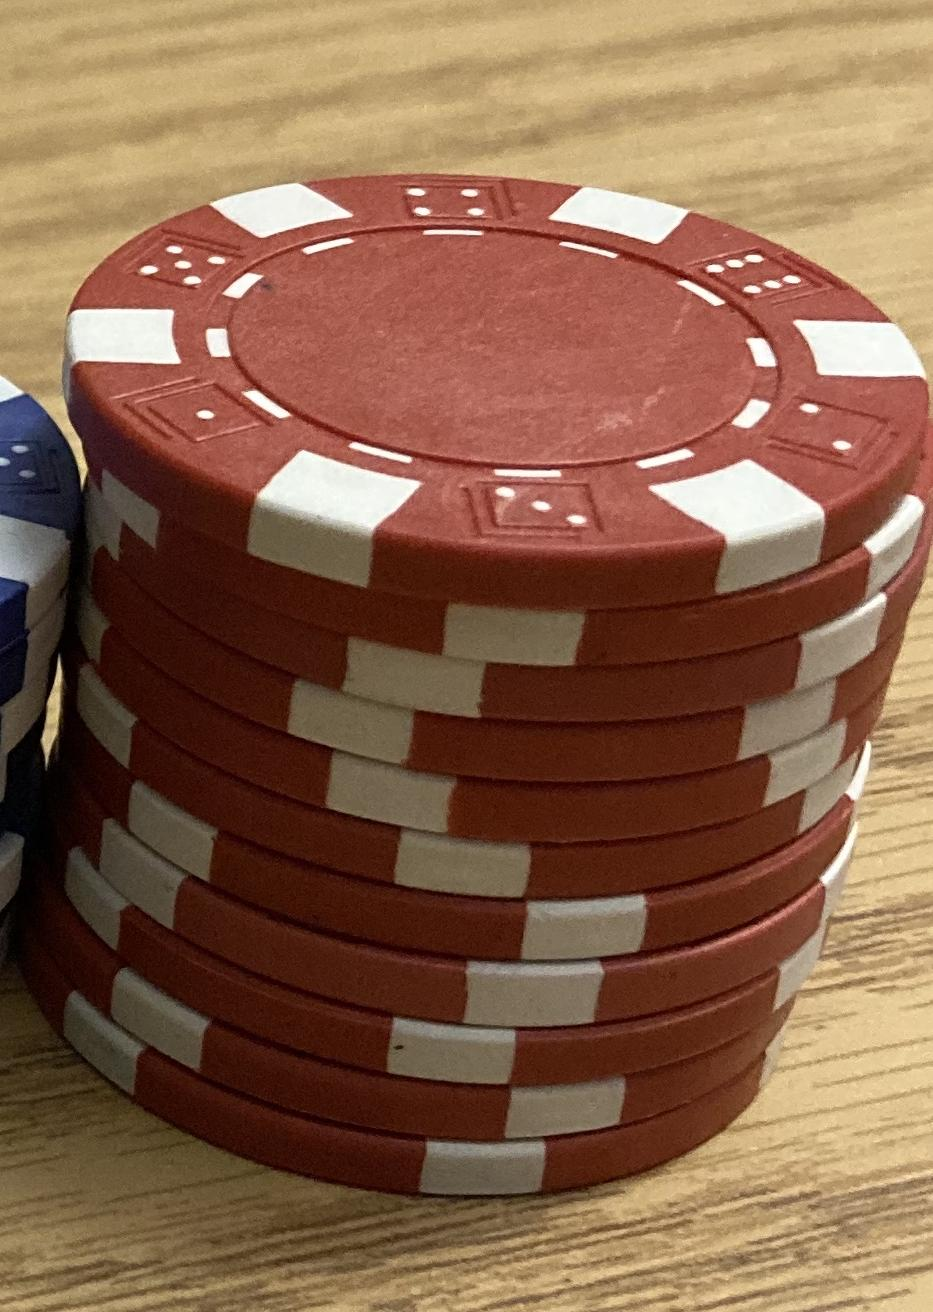Chip: (1, 1, 933, 1312)
